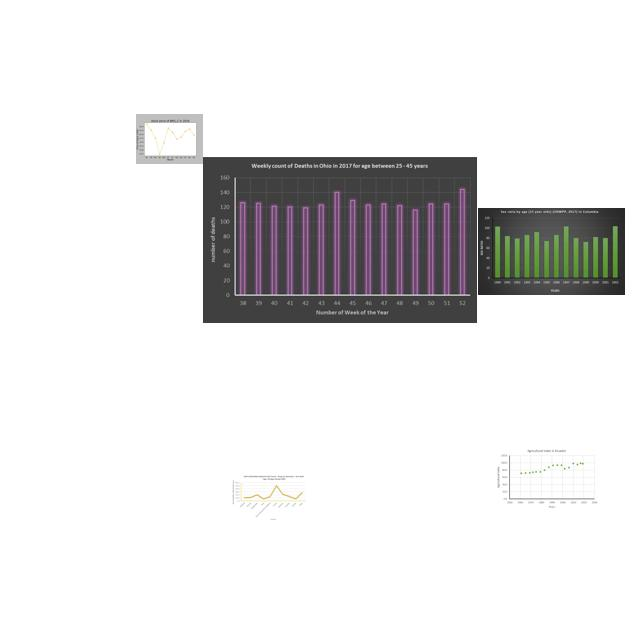Graph: (203, 157, 477, 323), (478, 208, 625, 295), (495, 447, 599, 509), (231, 474, 307, 522), (136, 114, 203, 164)
